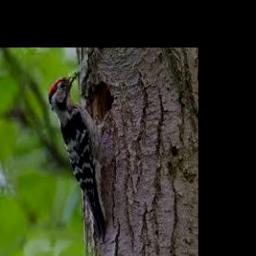Woodpecker: (49, 70, 113, 241)
